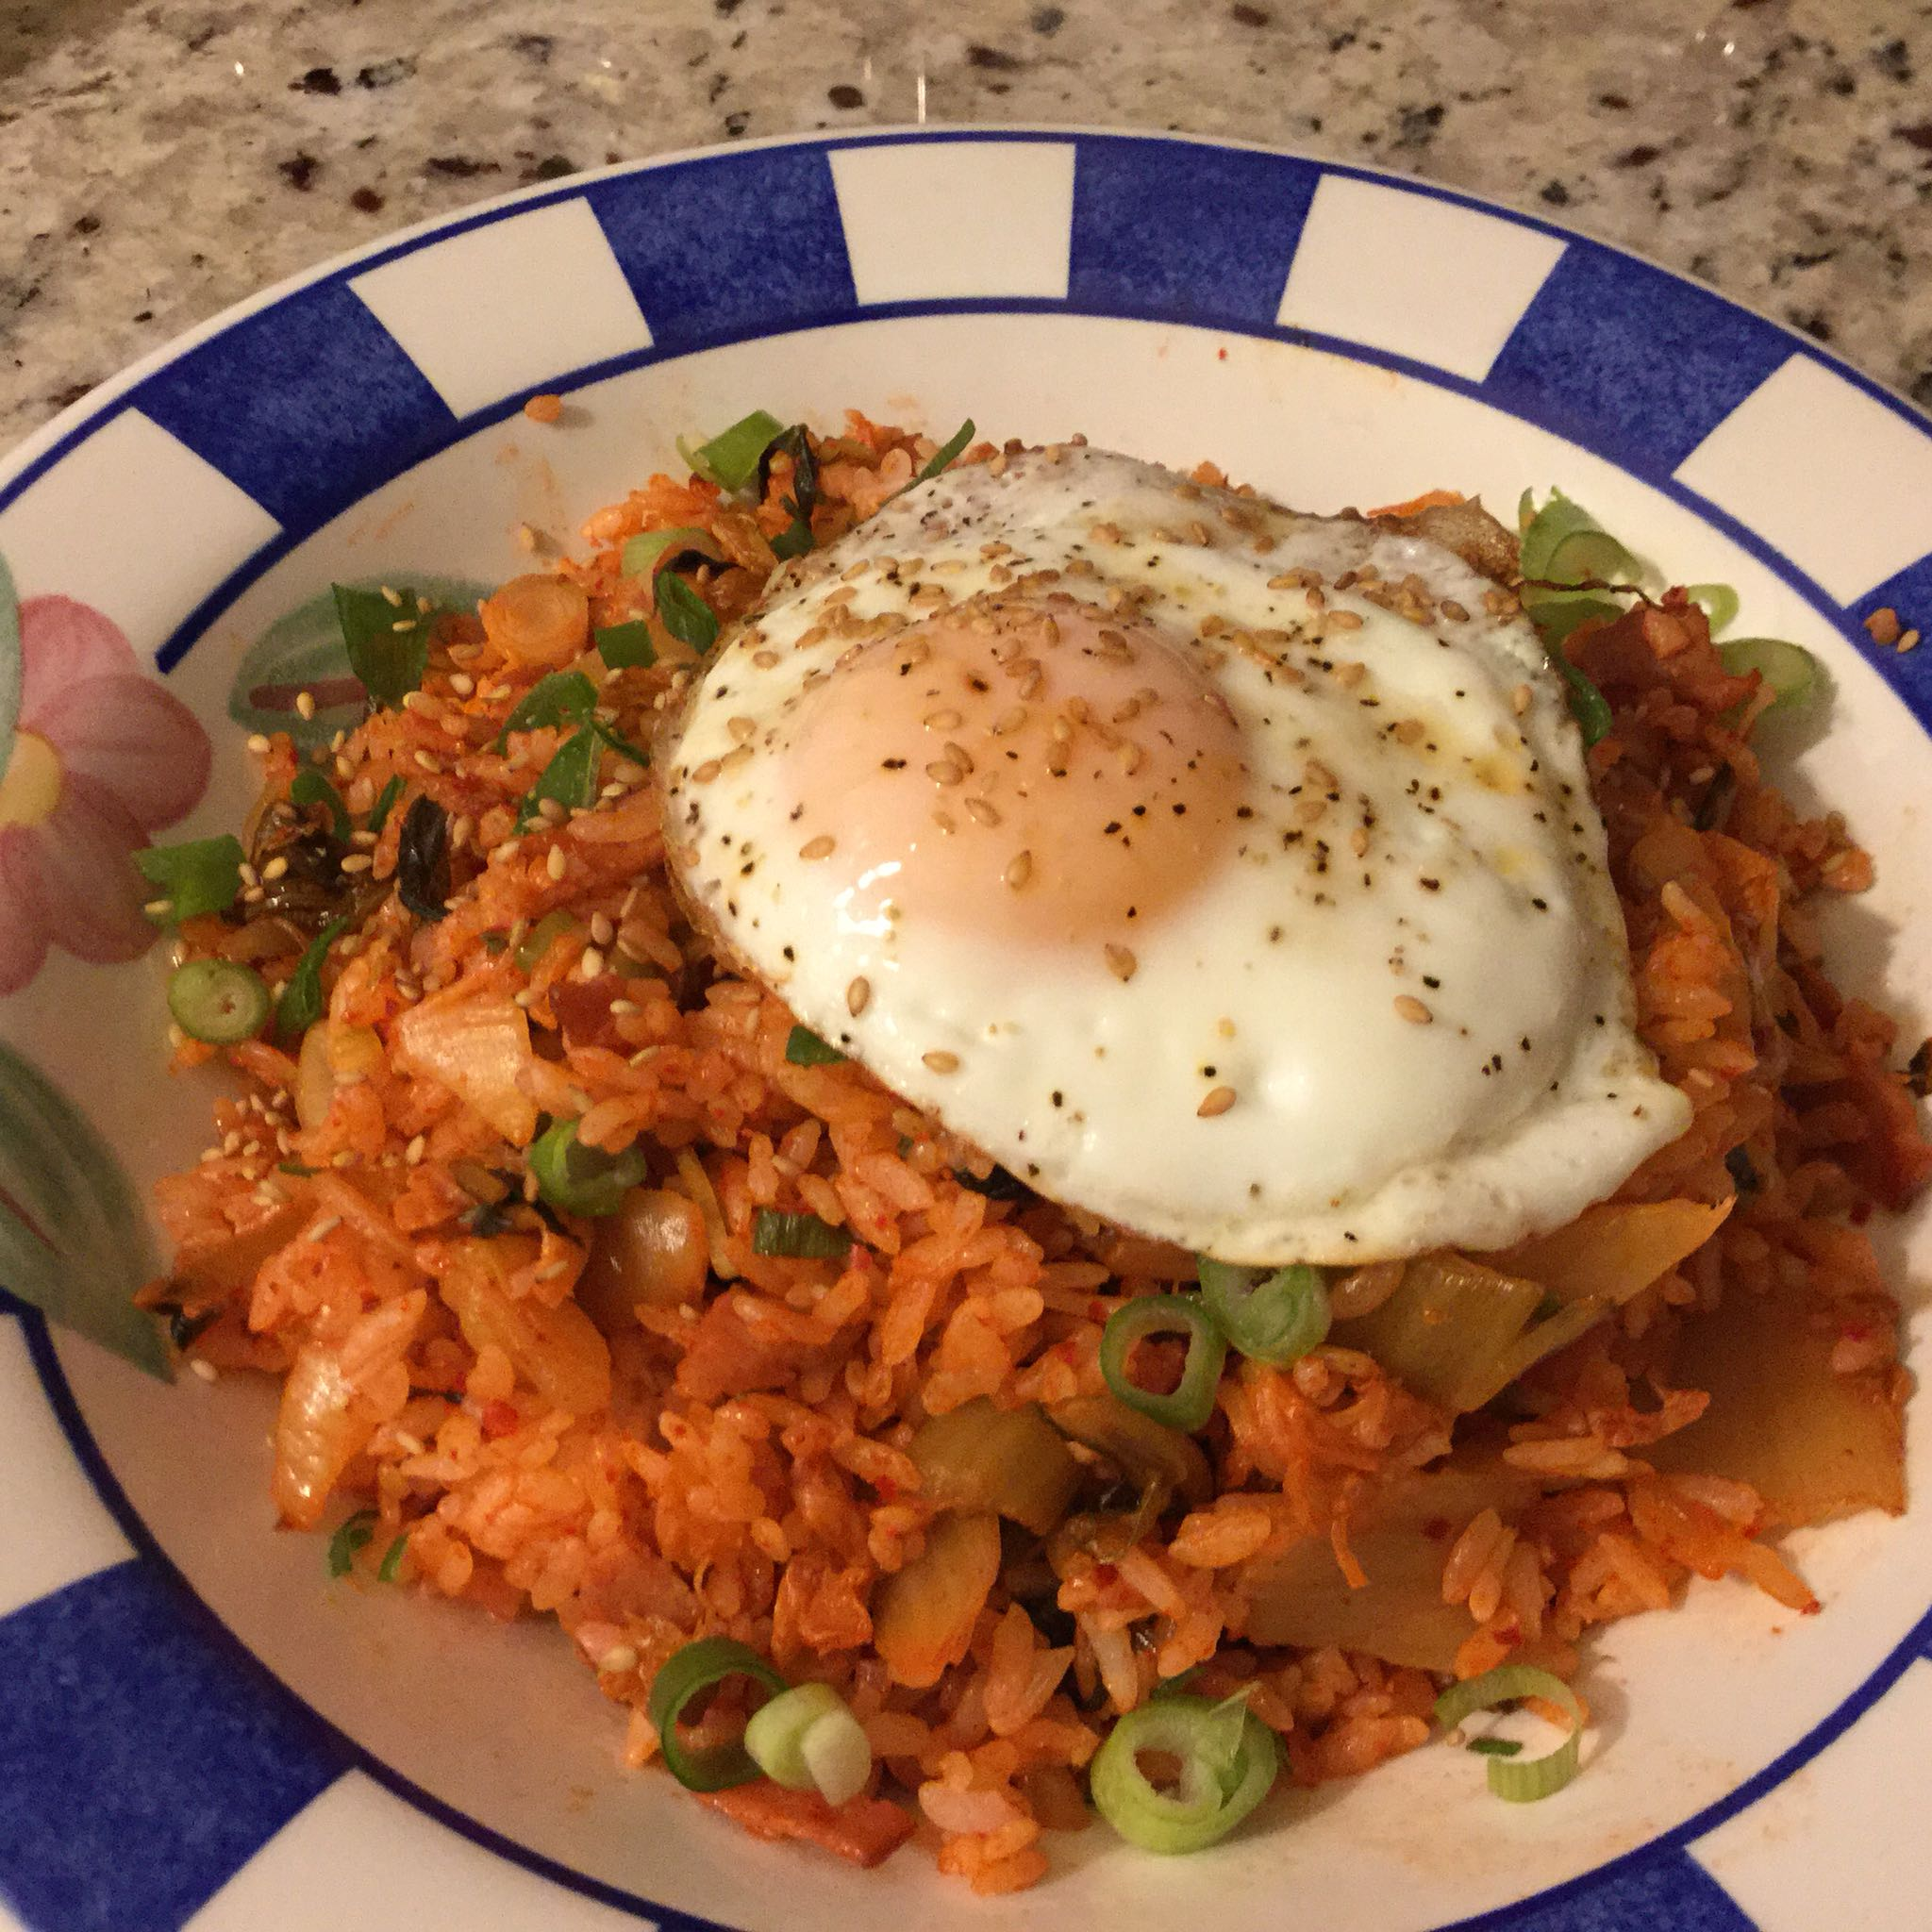fried egg: (708, 453, 1545, 1200)
plain rice: (186, 1238, 1677, 1821), (235, 598, 745, 1235)
